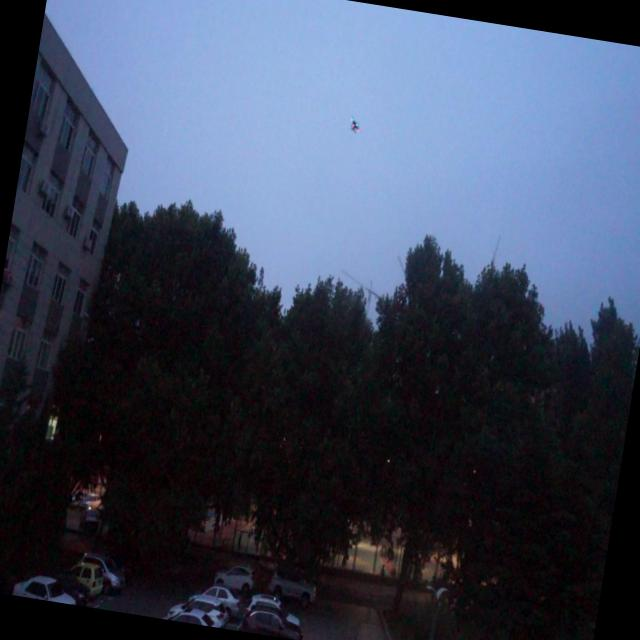drone: (346, 116, 364, 138)
